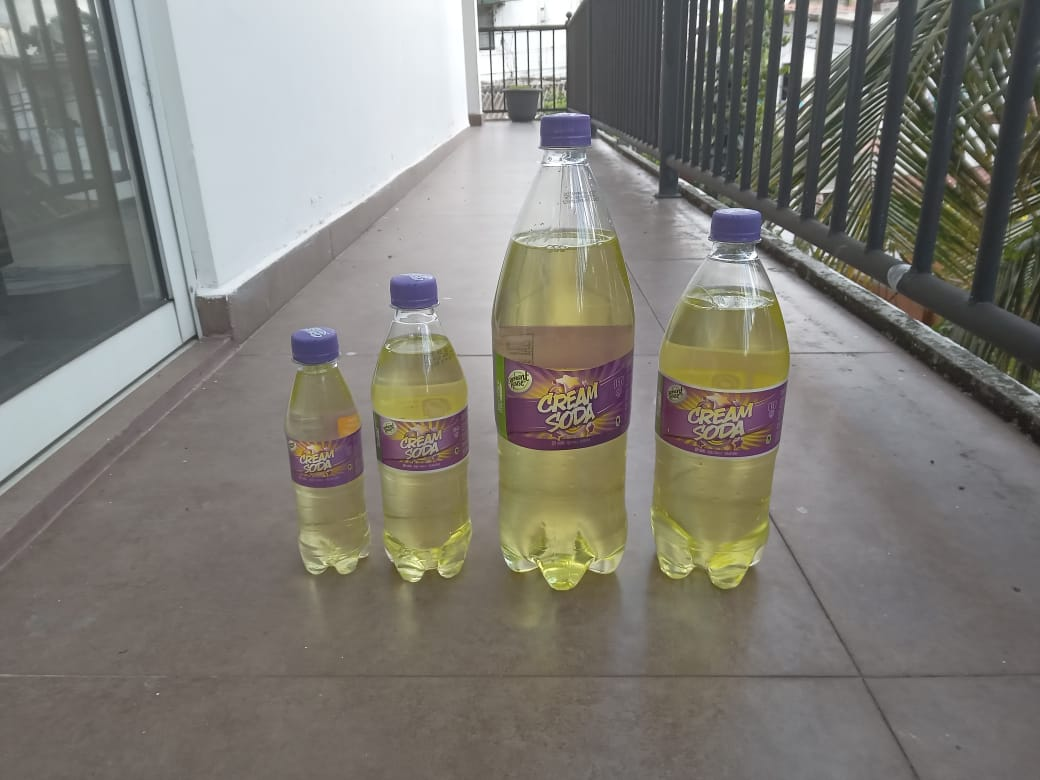L: (492, 105, 636, 589)
M: (652, 205, 789, 589)
S: (369, 274, 474, 584)
Xs: (278, 328, 362, 577)
